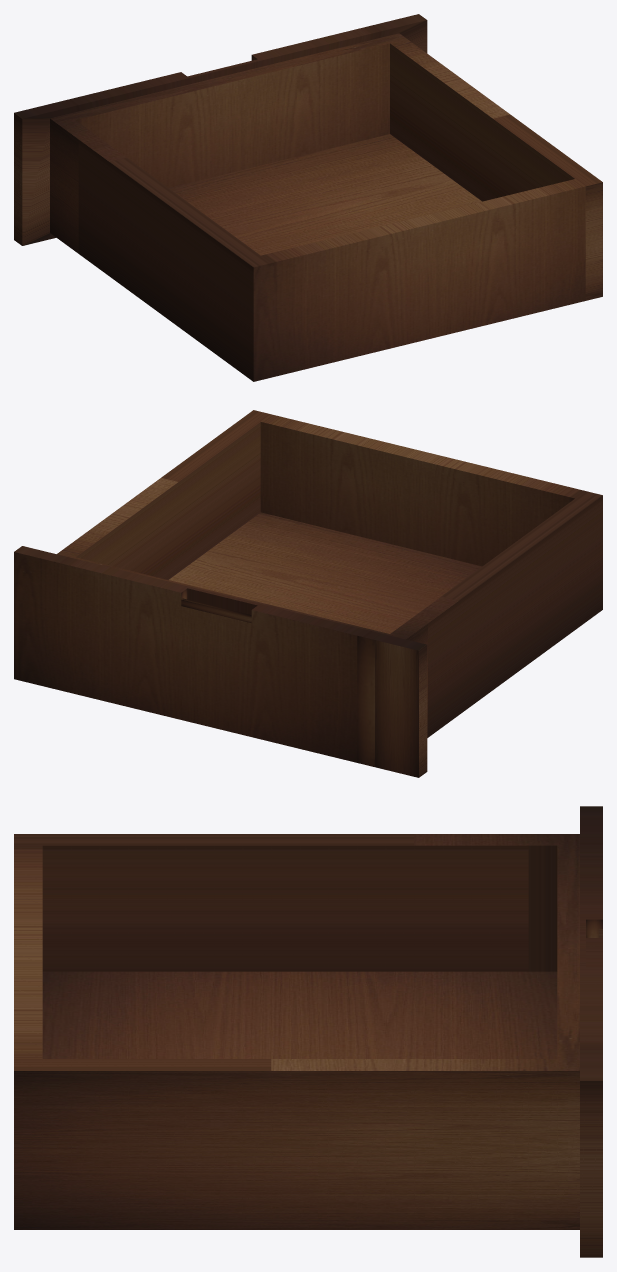
The model's file is Cajon2.obj.
3 views of the same model, one above another, from view 1: azimuth 30°, elevation 25°; view 2: azimuth 150°, elevation 25°; view 3: azimuth 270°, elevation 25° (orthographic). The views are drawn at different scales.
Parts seen in each view (by area): view 1: pasted__pasted__pasted__pasted__polySurface57 computer_table27:M; view 2: pasted__pasted__pasted__pasted__polySurface57 computer_table27:M; view 3: pasted__pasted__pasted__pasted__polySurface57 computer_table27:M.
Part boxes in pixels (<box>): pasted__pasted__pasted__pasted__polySurface57 computer_table27:M: <box>14,14,602,381</box>; pasted__pasted__pasted__pasted__polySurface57 computer_table27:M: <box>14,410,602,777</box>; pasted__pasted__pasted__pasted__polySurface57 computer_table27:M: <box>14,806,602,1257</box>.
Size of the model in its own units: 6.06 by 1.82 by 5.49.
